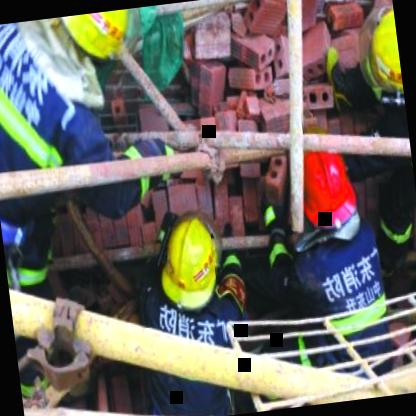helmet: (286, 146, 362, 248), (152, 211, 224, 306), (48, 8, 133, 66), (360, 5, 404, 105)
